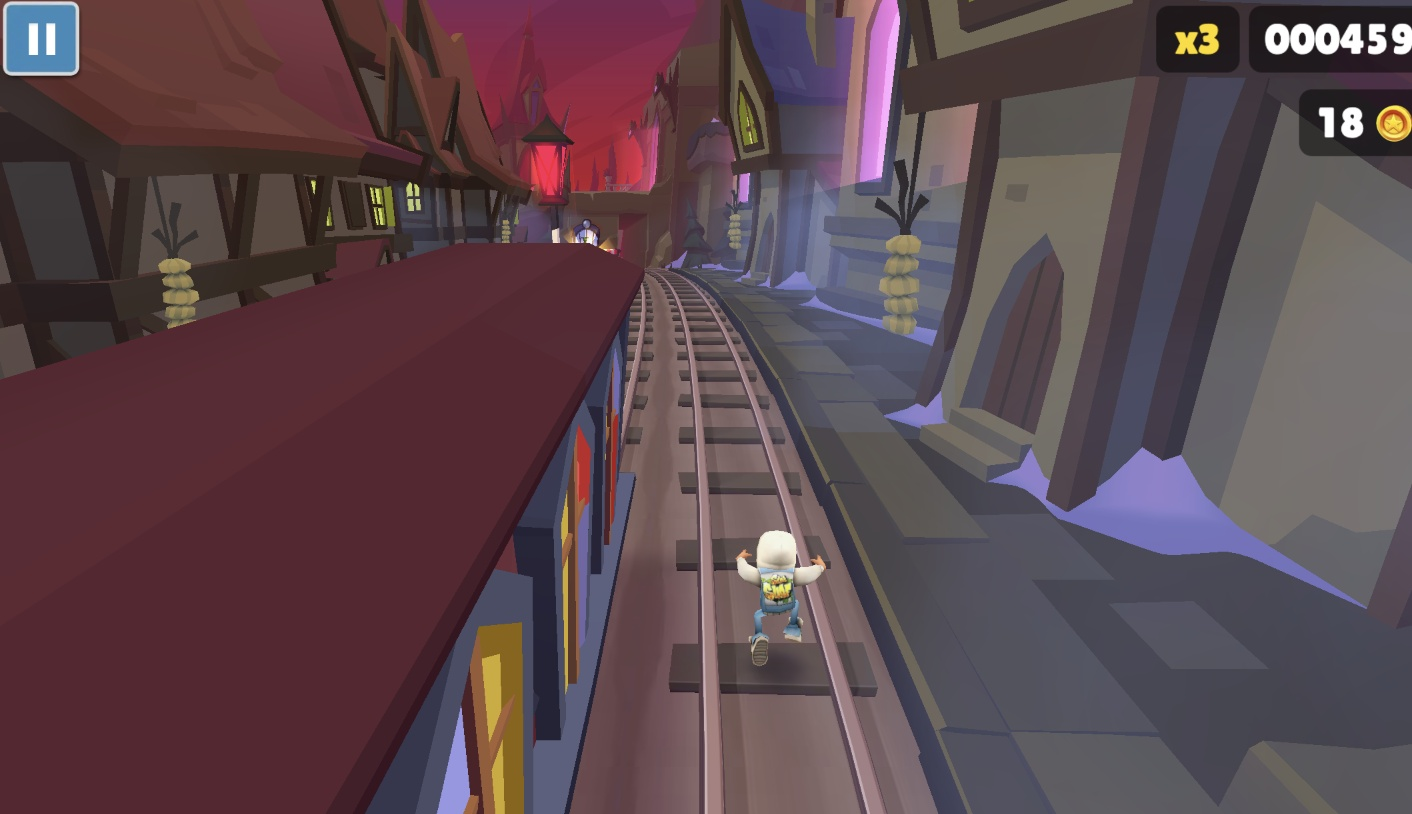ground_barrier: (603, 247, 627, 255)
train: (0, 244, 646, 814), (570, 219, 603, 248)
